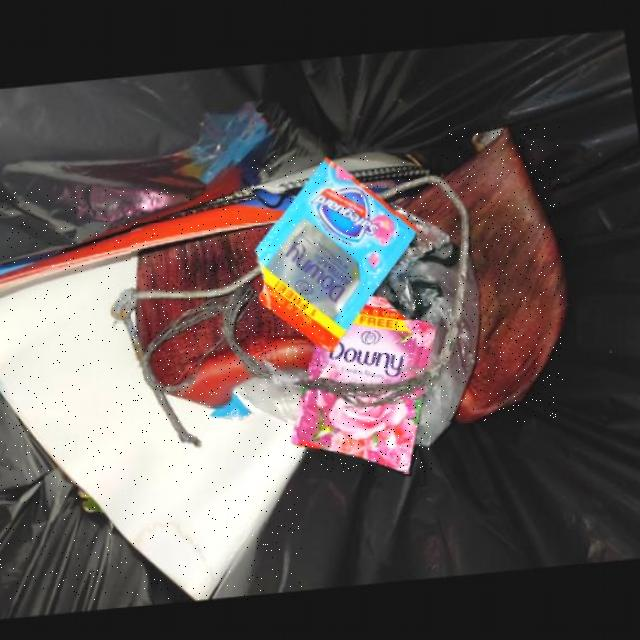biowaste: (441, 124, 563, 422), (132, 224, 310, 407), (397, 183, 459, 245)
paper: (0, 189, 302, 600)
wrapper: (252, 157, 414, 352), (285, 294, 432, 473)
